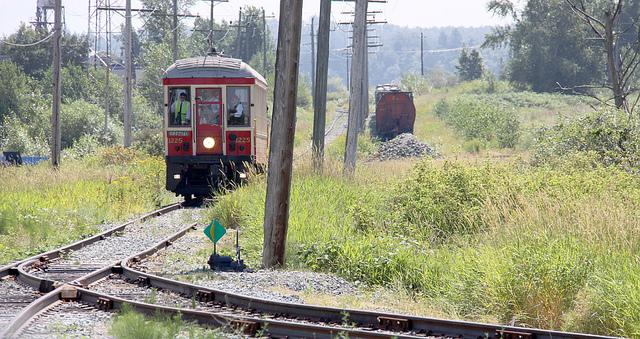Train: (163, 58, 271, 206), (374, 80, 417, 136)
